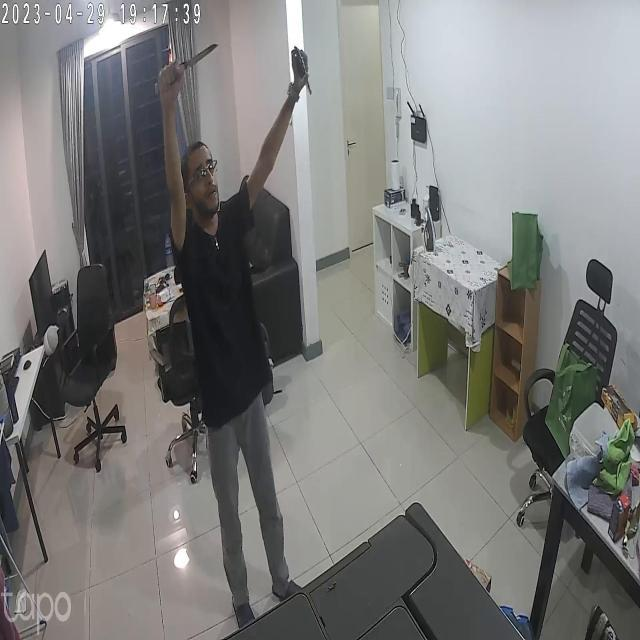Knife: (144, 38, 232, 96)
